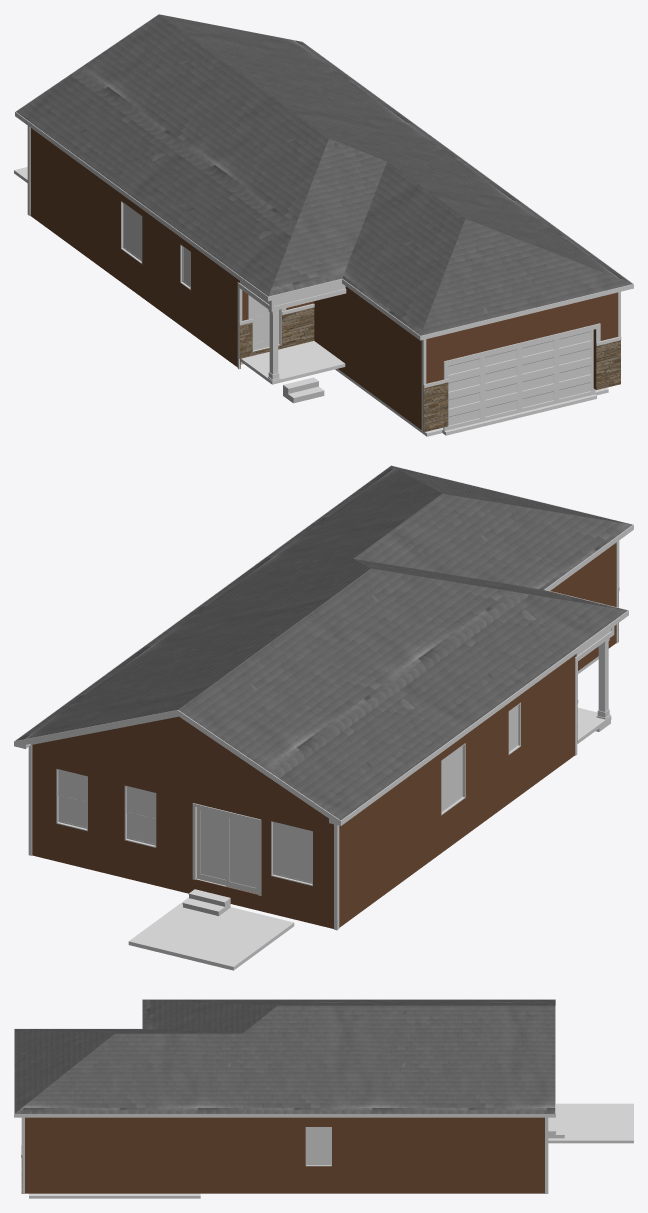
File: 129-1105-dm-traditional.glb
3 renders of one model, top to bottom at view 1: azimuth 30°, elevation 25°; view 2: azimuth 150°, elevation 25°; view 3: azimuth 270°, elevation 25°, orthographic. The views are drawn at different scales.
Visible parts, largest first — view 1: Basic Roof Wood Rafter 4" - Asphalt Shingle - Insulated_883d, Basic Roof Wood Rafter 4" - Asphalt Shingle - Insulated_6352, Basic Wall BSB Exterior - Stud_3.5" - Sheathing_0.5" - _bcdf, Traditional - BSB Exterior - Overhead Garage Door - Clo_94e2, Basic Wall BSB Exterior - Stud_3.5" - Sheathing_0.5" - _7818, Basic Wall BSB Exterior - Stud_3.5" - Sheathing_0.5" - _5abe, Fascia Fascia-Flat 1x6 w/12" Soffit Bd [4132630], Floor BSB Concrete Slab - 4" - Slope Option [4103802], Basic Wall BSB Exterior - Stone Veneer_2" [4374173], Basic Wall BSB Exterior - Stone Veneer_2" [4131398], Fascia Fascia-Flat 1x6 w/12" Soffit Bd [4377992], Basic Wall BSB Exterior - Stud_3.5" - Sheathing_0.5" - _c4af (+9 smaller); view 2: Basic Roof Wood Rafter 4" - Asphalt Shingle - Insulated_883d, Basic Wall BSB Exterior - Stud_3.5" - Sheathing_0.5" - _ec2e, Basic Wall BSB Exterior - Stud_3.5" - Sheathing_0.5" - _bcdf, Basic Roof Wood Rafter 4" - Asphalt Shingle - Insulated_6352, Basic Wall BSB Exterior - Stud_3.5" - Sheathing_0.5" - _0147, Floor BSB Concrete Slab - 4" - Slope Option [4571774], BSB Exterior - SGD XO - 1-Lite 6068 [4090626], Fascia Fascia-Flat 1x6 w/12" Soffit Bd [4132630], BSB Fixed 4050 FX w/ Sill [4093476], BSB Single Hung 3050 SH w/ Sill [4093501], BSB Single Hung 3050 SH w/ Sill [4093551], Corner Trim - A Corner Trim - A [4183795] (+7 smaller); view 3: Basic Roof Wood Rafter 4" - Asphalt Shingle - Insulated_883d, Basic Wall BSB Exterior - Stud_3.5" - Sheathing_0.5" - _e56b, Basic Wall BSB Exterior - Stud_3.5" - Sheathing_0.5" - _636d, Basic Roof Wood Rafter 4" - Asphalt Shingle - Insulated_6352, Basic Wall BSB Exterior - Stud_3.5" - Sheathing_0.5" - _a63d, Floor BSB Concrete Slab - 4" - Slope Option [4571774], Fascia Fascia-Flat 1x6 w/12" Soffit Bd [4132630], BSB Single Hung 3050 SH w/ Sill [4102739], Floor BSB Concrete Slab - 4" - Slope Option [4464656], Fascia Fascia-Flat 1x6 w/12" Soffit Bd [4377992], Basic Wall BSB Exterior - Stud_3.5" - Sheathing_0.5" - _46bb, Cast-In-Place Stair Stair [4585541] (+1 smaller).
Part boxes in pixels (box(x1,y1,x2,y2)): Basic Roof Wood Rafter 4" - Asphalt Shingle - Insulated_883d: box(16, 14, 564, 296); Basic Roof Wood Rafter 4" - Asphalt Shingle - Insulated_6352: box(353, 214, 632, 335); Basic Wall BSB Exterior - Stud_3.5" - Sheathing_0.5" - _bcdf: box(30, 128, 228, 360); Traditional - BSB Exterior - Overhead Garage Door - Clo_94e2: box(443, 329, 595, 430); Basic Wall BSB Exterior - Stud_3.5" - Sheathing_0.5" - _7818: box(313, 286, 402, 415); Basic Wall BSB Exterior - Stud_3.5" - Sheathing_0.5" - _5abe: box(426, 292, 617, 389); Fascia Fascia-Flat 1x6 w/12" Soffit Bd [4132630]: box(15, 14, 565, 301); Floor BSB Concrete Slab - 4" - Slope Option [4103802]: box(240, 341, 345, 384); Basic Wall BSB Exterior - Stone Veneer_2" [4374173]: box(423, 340, 620, 432); Basic Wall BSB Exterior - Stone Veneer_2" [4131398]: box(239, 307, 314, 358); Fascia Fascia-Flat 1x6 w/12" Soffit Bd [4377992]: box(342, 234, 633, 340); Basic Wall BSB Exterior - Stud_3.5" - Sheathing_0.5" - _c4af: box(402, 328, 418, 427); Basic Roof Wood Rafter 4" - Asphalt Shingle - Insulated_883d: box(15, 499, 627, 820); Basic Wall BSB Exterior - Stud_3.5" - Sheathing_0.5" - _ec2e: box(32, 742, 333, 928); Basic Wall BSB Exterior - Stud_3.5" - Sheathing_0.5" - _bcdf: box(332, 663, 564, 927); Basic Roof Wood Rafter 4" - Asphalt Shingle - Insulated_6352: box(315, 465, 632, 580); Basic Wall BSB Exterior - Stud_3.5" - Sheathing_0.5" - _0147: box(44, 716, 313, 808); Floor BSB Concrete Slab - 4" - Slope Option [4571774]: box(128, 897, 294, 970); BSB Exterior - SGD XO - 1-Lite 6068 [4090626]: box(192, 803, 261, 895); Fascia Fascia-Flat 1x6 w/12" Soffit Bd [4132630]: box(15, 522, 628, 825); BSB Fixed 4050 FX w/ Sill [4093476]: box(271, 821, 312, 886); BSB Single Hung 3050 SH w/ Sill [4093501]: box(124, 785, 156, 847); BSB Single Hung 3050 SH w/ Sill [4093551]: box(56, 769, 87, 831); Corner Trim - A Corner Trim - A [4183795]: box(28, 626, 614, 930); Basic Roof Wood Rafter 4" - Asphalt Shingle - Insulated_883d: box(125, 999, 555, 1113); Basic Wall BSB Exterior - Stud_3.5" - Sheathing_0.5" - _e56b: box(251, 1117, 544, 1193); Basic Wall BSB Exterior - Stud_3.5" - Sheathing_0.5" - _636d: box(110, 1117, 250, 1193); Basic Roof Wood Rafter 4" - Asphalt Shingle - Insulated_6352: box(14, 1029, 124, 1113); Basic Wall BSB Exterior - Stud_3.5" - Sheathing_0.5" - _a63d: box(32, 1117, 110, 1193); Floor BSB Concrete Slab - 4" - Slope Option [4571774]: box(548, 1103, 633, 1143); Fascia Fascia-Flat 1x6 w/12" Soffit Bd [4132630]: box(125, 999, 555, 1117); BSB Single Hung 3050 SH w/ Sill [4102739]: box(305, 1127, 331, 1166); Floor BSB Concrete Slab - 4" - Slope Option [4464656]: box(29, 1193, 200, 1198); Fascia Fascia-Flat 1x6 w/12" Soffit Bd [4377992]: box(14, 1028, 141, 1117); Basic Wall BSB Exterior - Stud_3.5" - Sheathing_0.5" - _46bb: box(26, 1117, 31, 1193); Cast-In-Place Stair Stair [4585541]: box(548, 1119, 564, 1138).
Size of the model in its own units: 9.49 by 5.48 by 21.66.
Materials: 3 (2 with a texture image).
